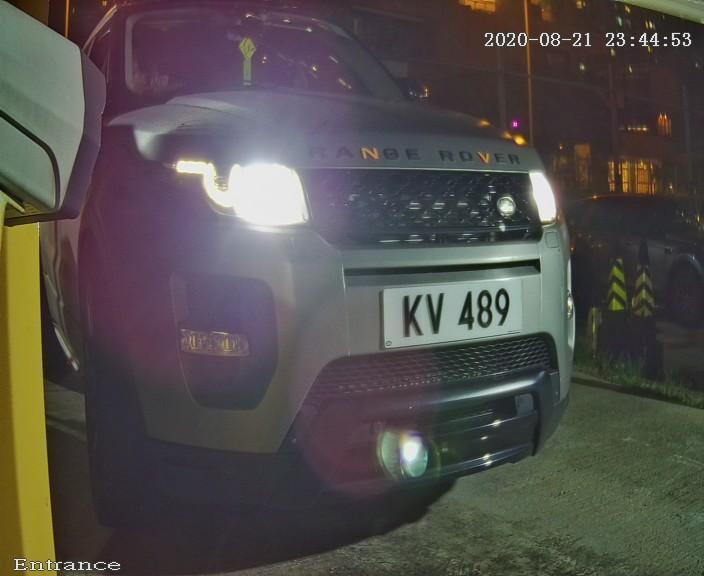Car: (41, 6, 604, 525)
License Plate: (356, 250, 540, 364)
